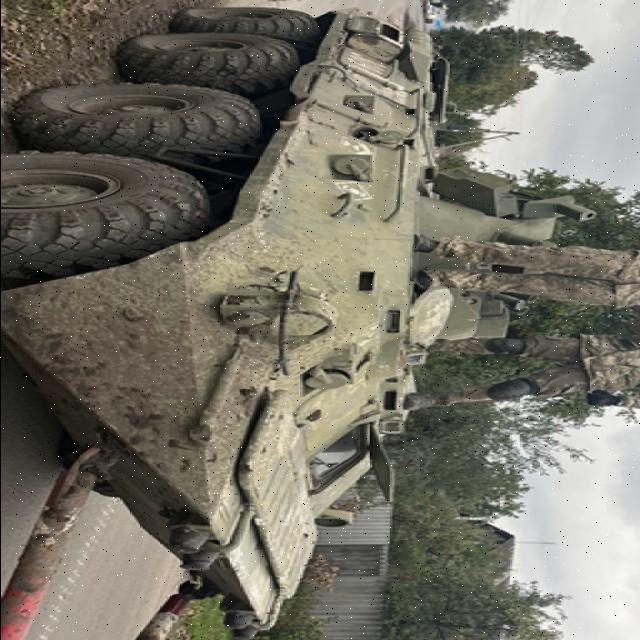APC-IFV: (2, 0, 582, 634)
